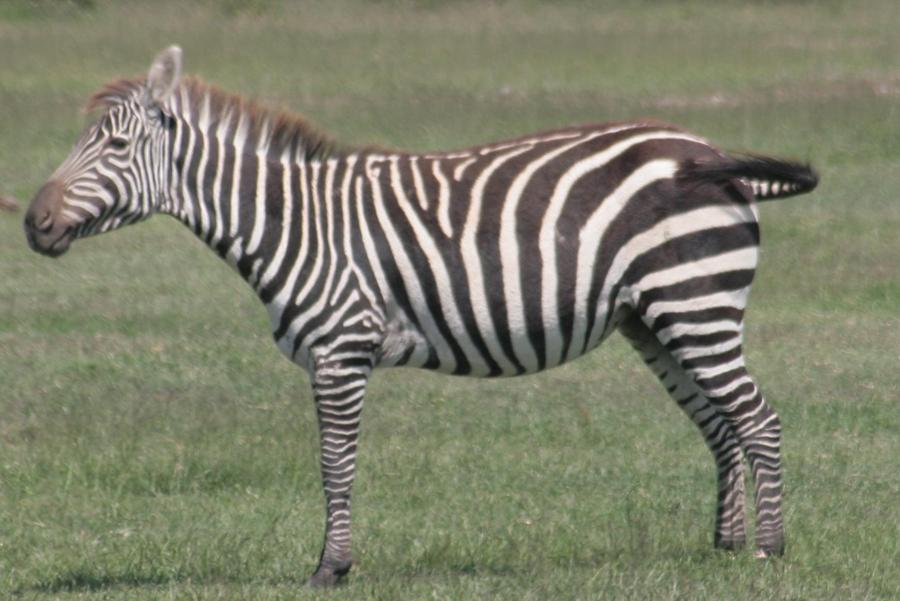zebra_plains: (229, 106, 784, 380)
